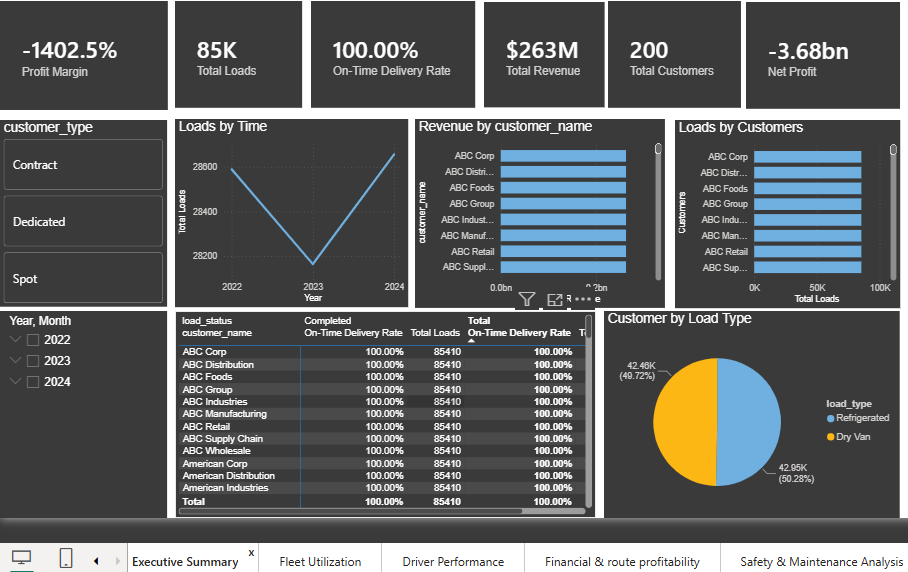

What the dashboard file says about the page in this screenshot:
{"tool":"powerbi","page":{"name":"Executive Summary","canvas":[1280,720],"ordinal":0},"visuals":[{"type":"cardVisual","fields":{"Data":["key_metrics.Total Loads"]},"box":[240.5,8.2,174.6,146.6],"z":0},{"type":"cardVisual","fields":{"Data":["key_metrics.On-Time Delivery Rate"]},"box":[428.3,8.2,225.7,146.6],"z":1000},{"type":"cardVisual","fields":{"Data":["key_metrics.Total Revenue"]},"box":[665.5,9.9,166.4,145],"z":2000},{"type":"lineChart","title":"Loads by Time","fields":{"Y":["key_metrics.Total Loads"],"Category":["loads.load_date.Variation.Date Hierarchy.Year","loads.load_date.Variation.Date Hierarchy.Month"]},"box":[240.9,170.7,320.7,258.8],"z":3000},{"type":"barChart","title":"Revenue by customer_name","fields":{"Category":["customers_csv.customer_name"],"Y":["key_metrics.Total Revenue"]},"box":[571.2,170.7,344.1,260.1],"z":4000},{"type":"barChart","title":"Loads by Customers","fields":{"Y":["key_metrics.Total Loads"],"Category":["customers_csv.customer_name"]},"box":[929,172,309.7,258.8],"z":5000},{"type":"pivotTable","fields":{"Rows":["customers_csv.customer_name"],"Columns":["loads.load_status"],"Values":["key_metrics.On-Time Delivery Rate","key_metrics.Total Loads"]},"box":[240.9,434.9,579.4,284.9],"z":6000},{"type":"advancedSlicerVisual","fields":{"Values":["customers_csv.customer_type"]},"box":[0,172,229.8,257.4],"z":7000},{"type":"cardVisual","fields":{"Data":["key_metrics.Total Customers"]},"box":[836.9,8.2,182.9,146.6],"z":8000},{"type":"cardVisual","fields":{"Data":["key_metrics.Net Profit"]},"box":[1026.8,9.6,212,147.3],"z":9000},{"type":"slicer","fields":{"Values":["loads.load_date.Variation.Date Hierarchy.Year","loads.load_date.Variation.Date Hierarchy.Month"]},"box":[0,434.9,229.8,284.9],"z":10000},{"type":"pieChart","title":"Customer by Load Type","fields":{"Category":["loads.load_type"],"Y":["CountNonNull(loads.customer_id)"]},"box":[831.3,434.9,407.4,284.9],"z":11000},{"type":"cardVisual","fields":{"Data":["key_metrics.Profit Margin"]},"box":[0,8.2,230.6,149.9],"z":12000}]}

Visuals, with their boxes in screenshot pixels (x1, y1, x2, y2):
cardVisual - key_metrics.Total Loads: {"left": 172, "top": 0, "right": 299, "bottom": 105}
cardVisual - key_metrics.On-Time Delivery Rate: {"left": 308, "top": 0, "right": 472, "bottom": 105}
cardVisual - key_metrics.Total Revenue: {"left": 480, "top": 0, "right": 601, "bottom": 105}
"Loads by Time" lineChart: {"left": 172, "top": 117, "right": 405, "bottom": 304}
"Revenue by customer_name" barChart: {"left": 412, "top": 117, "right": 661, "bottom": 305}
"Loads by Customers" barChart: {"left": 671, "top": 118, "right": 896, "bottom": 305}
pivotTable - customers_csv.customer_name x loads.load_status: {"left": 172, "top": 308, "right": 593, "bottom": 515}
advancedSlicerVisual - customers_csv.customer_type: {"left": 0, "top": 118, "right": 164, "bottom": 304}
cardVisual - key_metrics.Total Customers: {"left": 605, "top": 0, "right": 737, "bottom": 105}
cardVisual - key_metrics.Net Profit: {"left": 742, "top": 0, "right": 896, "bottom": 107}
slicer - loads.load_date.Variation.Date Hierarchy.Year x loads.load_date.Variation.Date Hierarchy.Month: {"left": 0, "top": 308, "right": 164, "bottom": 515}
"Customer by Load Type" pieChart: {"left": 601, "top": 308, "right": 896, "bottom": 515}
cardVisual - key_metrics.Profit Margin: {"left": 0, "top": 0, "right": 165, "bottom": 108}
